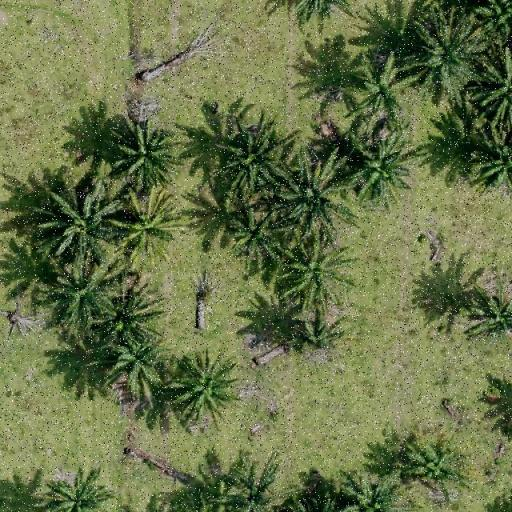Ganoderma: (122, 203, 176, 256), (288, 250, 343, 299), (356, 66, 407, 112), (292, 318, 343, 356), (410, 446, 458, 486)
